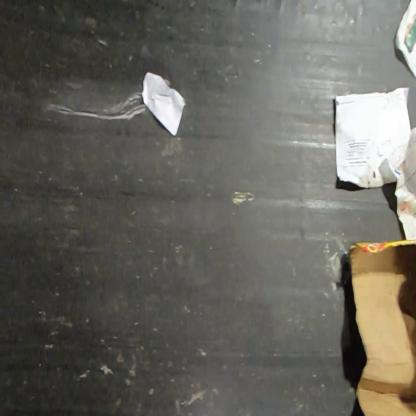cardboard: (347, 238, 415, 415)
